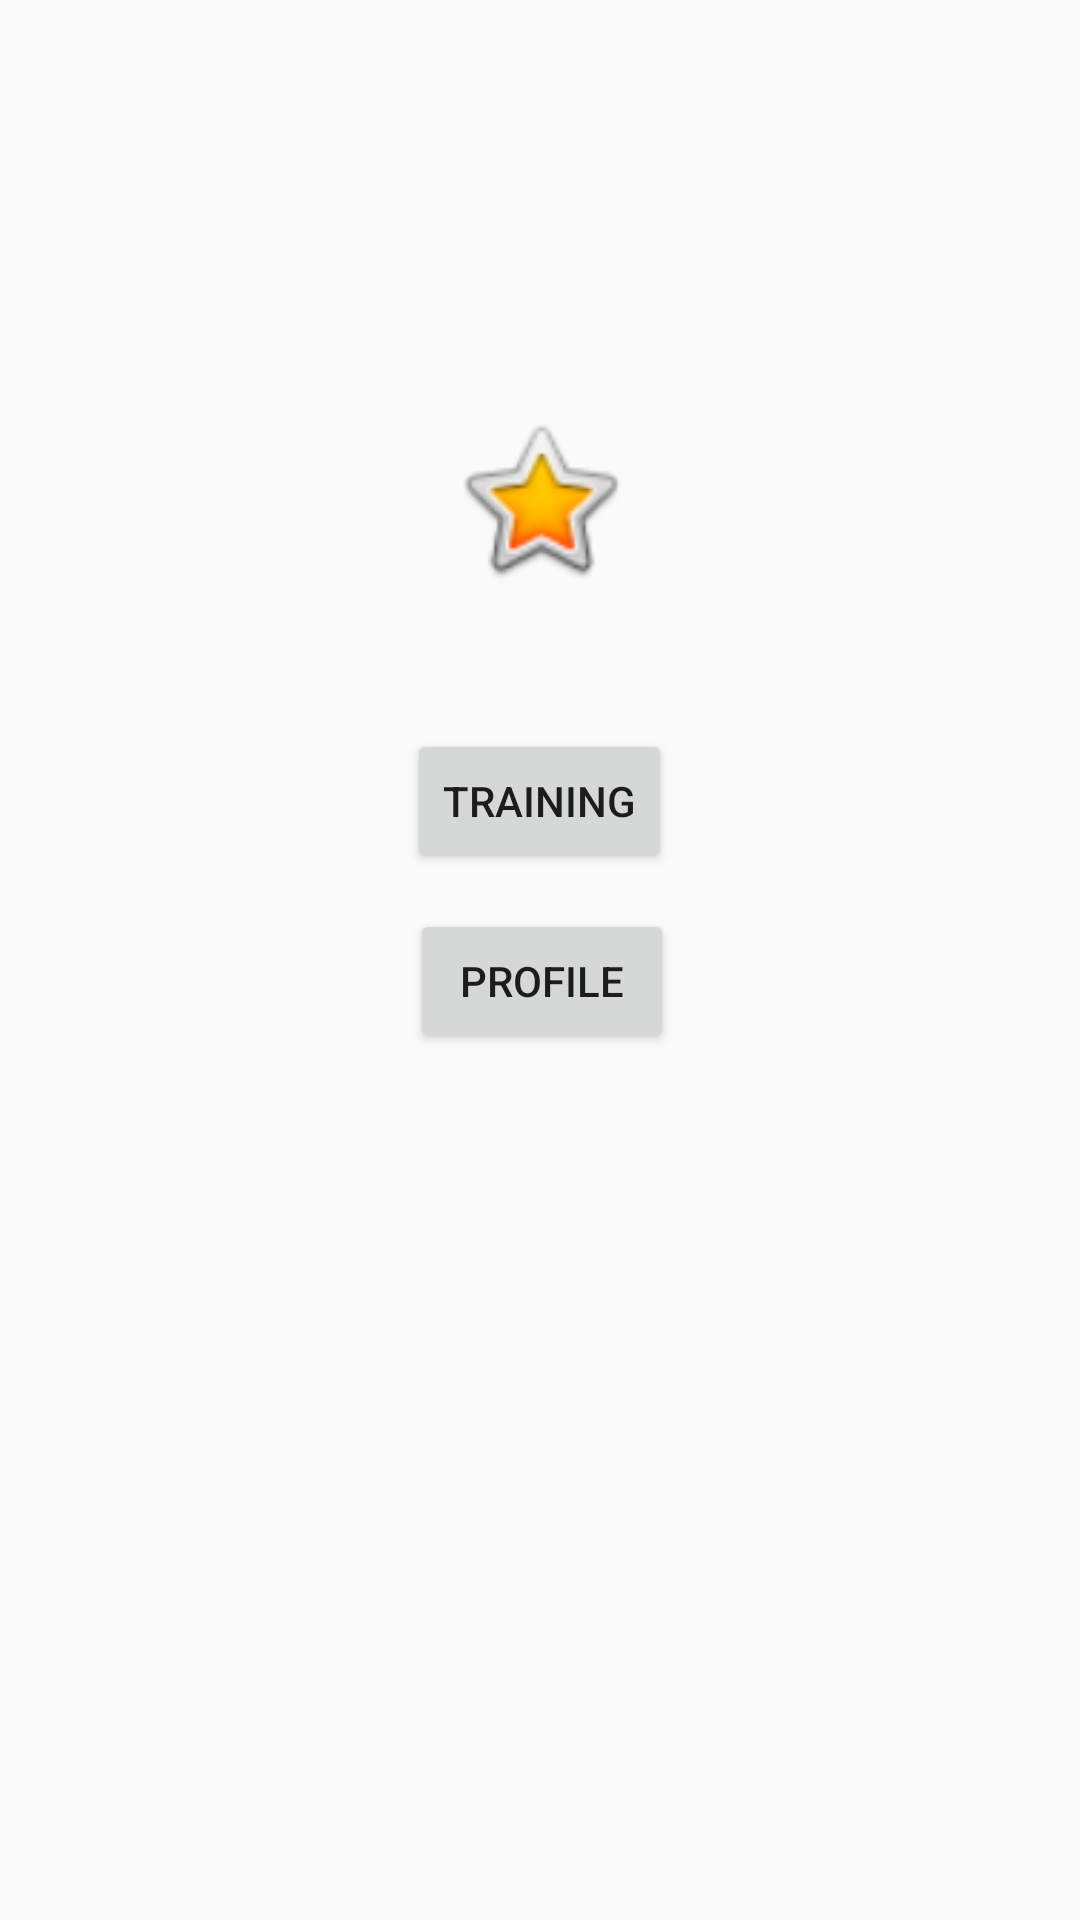

Where to tap for icons on this 1080px×1920px app screen, as [x,y]:
star on: [541,500]
